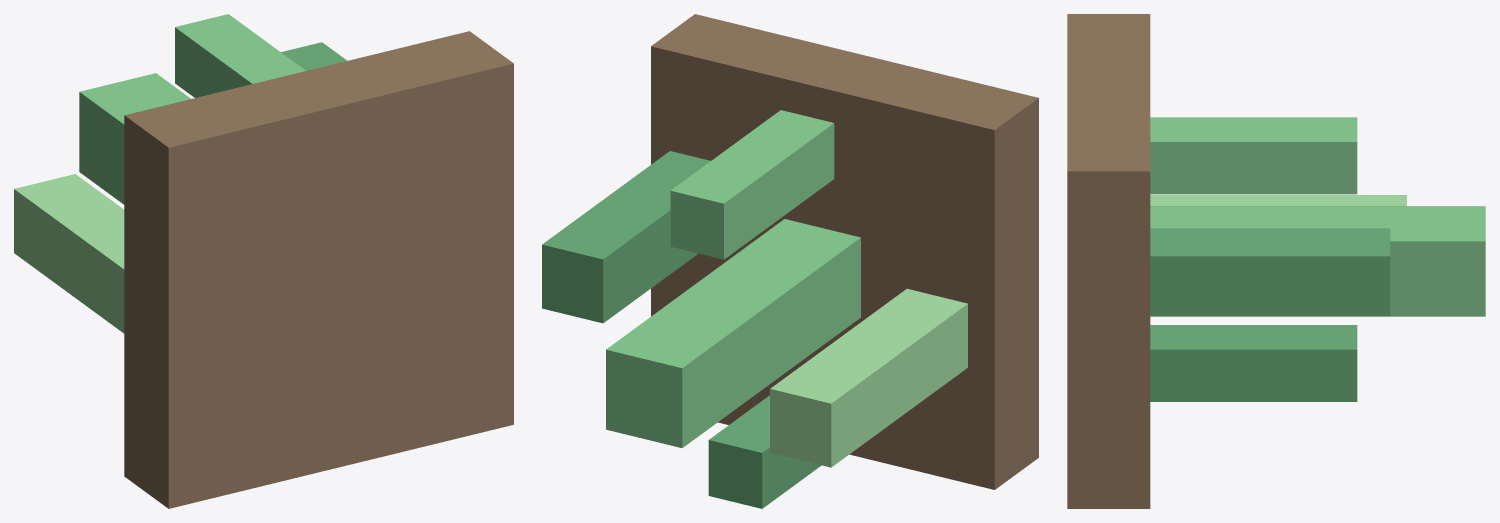
The model's file is grass_tuft.glb.
The picture shows the model from 3 angles, left to right: view 1: azimuth 30°, elevation 25°; view 2: azimuth 150°, elevation 25°; view 3: azimuth 270°, elevation 25°; orthographic projection. The views are drawn at different scales.
Parts seen in each view (by area): view 1: grass_Base, grass_Blade3, grass_Blade4, grass_Blade1, grass_Blade2; view 2: grass_Base, grass_Blade1, grass_Blade3, grass_Blade2, grass_Blade4, grass_Blade5; view 3: grass_Base, grass_Blade2, grass_Blade1, grass_Blade4, grass_Blade5, grass_Blade3.
Part boxes in pixels (<box>): grass_Base: <box>124,31,513,508</box>; grass_Blade3: <box>14,174,124,333</box>; grass_Blade4: <box>175,14,305,97</box>; grass_Blade1: <box>79,73,190,204</box>; grass_Blade2: <box>281,42,347,70</box>; grass_Base: <box>651,14,1038,489</box>; grass_Blade1: <box>606,219,860,448</box>; grass_Blade3: <box>770,289,967,467</box>; grass_Blade2: <box>542,151,710,323</box>; grass_Blade4: <box>670,110,834,259</box>; grass_Blade5: <box>708,395,821,508</box>; grass_Base: <box>1067,14,1150,508</box>; grass_Blade2: <box>1150,228,1390,316</box>; grass_Blade1: <box>1150,206,1485,316</box>; grass_Blade4: <box>1150,117,1357,194</box>; grass_Blade5: <box>1150,325,1357,401</box>; grass_Blade3: <box>1150,195,1406,206</box>.
Bounding box in the file's own units: 0.45 × 0.45 × 0.505.
